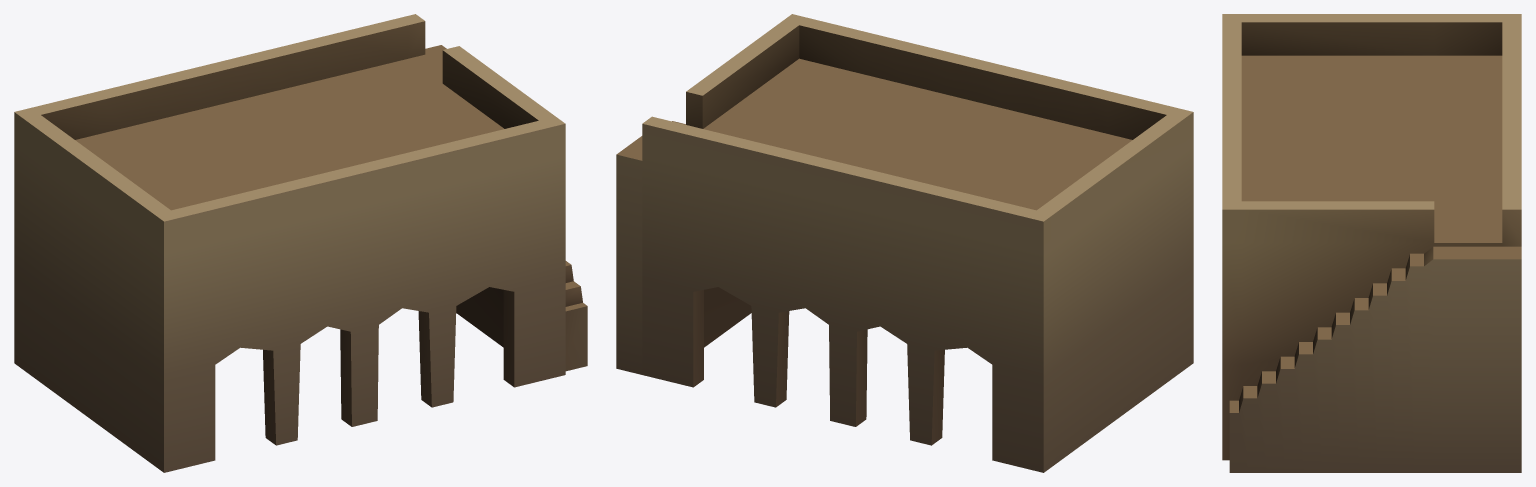
File: buildings-historical-desertbuildingold_v7.glb
3 views of the same model, side by side, from view 1: azimuth 30°, elevation 25°; view 2: azimuth 150°, elevation 25°; view 3: azimuth 270°, elevation 25° (orthographic).
Visible parts, largest first — view 1: DesertBuildingOld_v7; view 2: DesertBuildingOld_v7; view 3: DesertBuildingOld_v7.
Part boxes in pixels (left/top/right/bottom): DesertBuildingOld_v7: left=14, top=14, right=587, bottom=472; DesertBuildingOld_v7: left=616, top=14, right=1193, bottom=472; DesertBuildingOld_v7: left=1222, top=14, right=1521, bottom=472.
Size of the model in its own units: 11.17 by 6.28 by 6.79.
